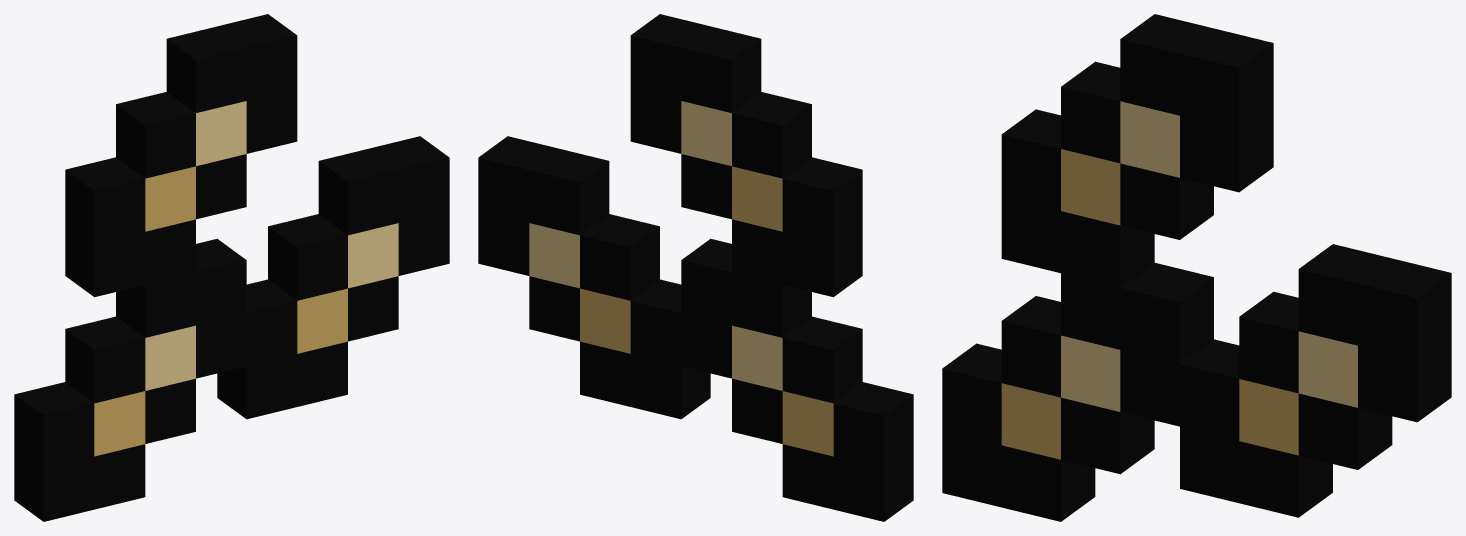
The model's file is Oats.glb.
3 renders of one model, left to right at view 1: azimuth 30°, elevation 25°; view 2: azimuth 150°, elevation 25°; view 3: azimuth 330°, elevation 25°, orthographic. The views are drawn at different scales.
Parts seen in each view (by area): view 1: generated(Clone); view 2: generated(Clone); view 3: generated(Clone).
Part boxes in pixels (<box>): generated(Clone): <box>14,14,449,521</box>; generated(Clone): <box>478,14,913,521</box>; generated(Clone): <box>942,14,1451,521</box>.
Size of the model in its own units: 8 by 8 by 1.
Materials: 1 (1 with a texture image).
